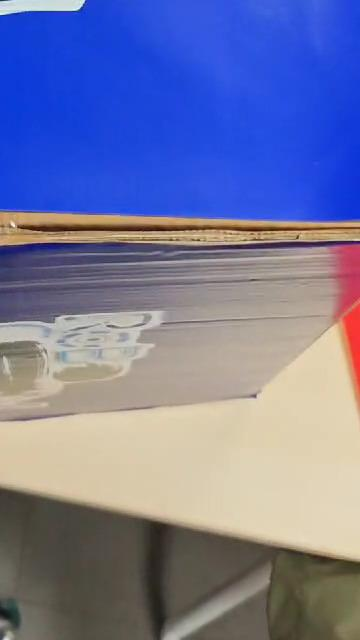B_R1: (0, 0, 317, 9)
